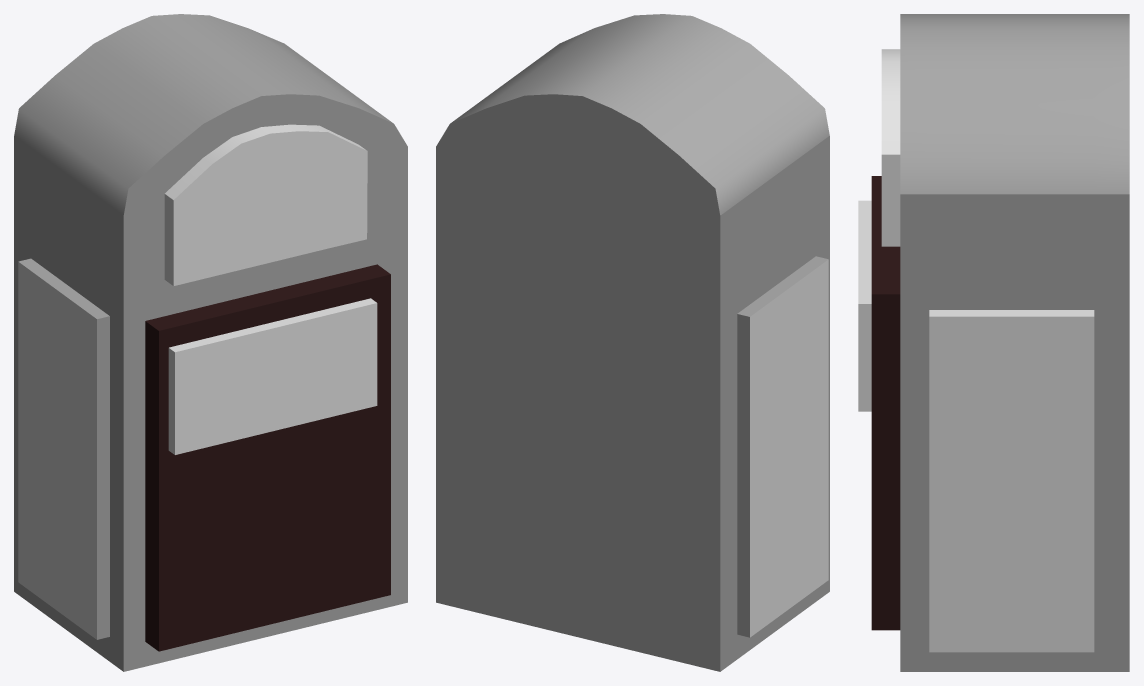
File: poubelle.fbx
The picture shows the model from 3 angles, left to right: view 1: azimuth 30°, elevation 25°; view 2: azimuth 150°, elevation 25°; view 3: azimuth 270°, elevation 25°; orthographic projection. The views are drawn at different scales.
Visible parts, largest first — view 1: pCube1; view 2: pCube1; view 3: pCube1.
Part boxes in pixels (<box>): pCube1: <box>14,14,407,671</box>; pCube1: <box>436,14,829,671</box>; pCube1: <box>858,14,1129,671</box>.
Bounding box in the file's own units: 9.64 × 16.13 × 6.99.
